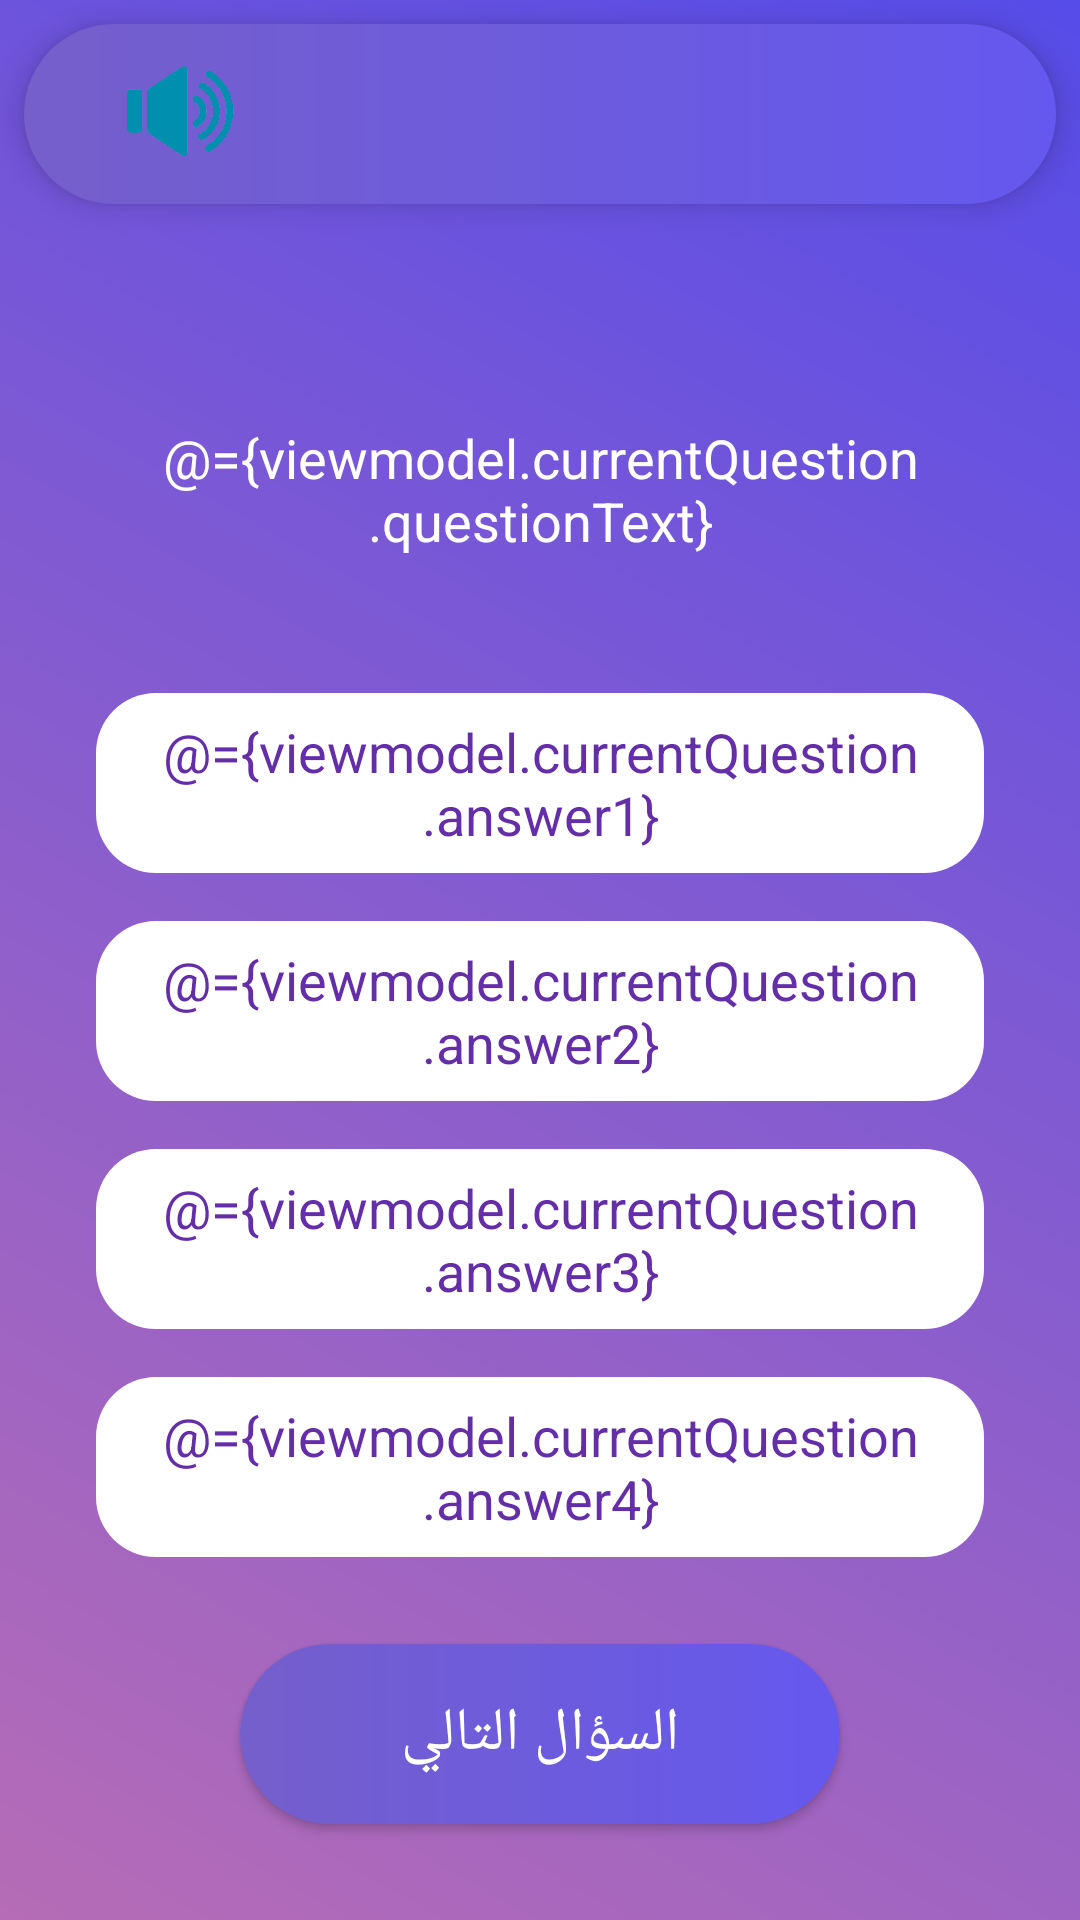

Screen size 1080×1920. Icon name, then its center in pixels as [x,y]:
audio: [180,111]
